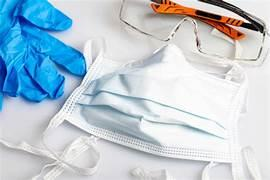Glove: (0, 0, 85, 101), (0, 57, 5, 89)
Mask: (45, 45, 246, 178)
